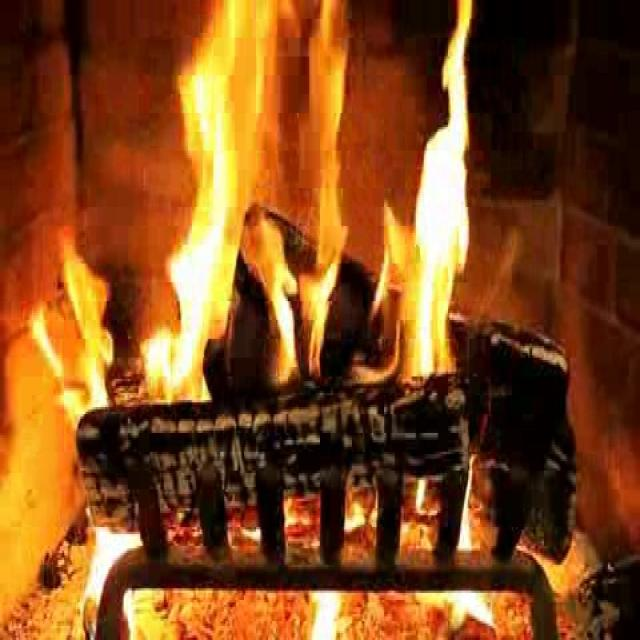fire: (167, 12, 477, 412)
